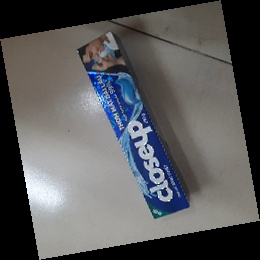CloseUp Tuyet: (76, 32, 191, 221)
